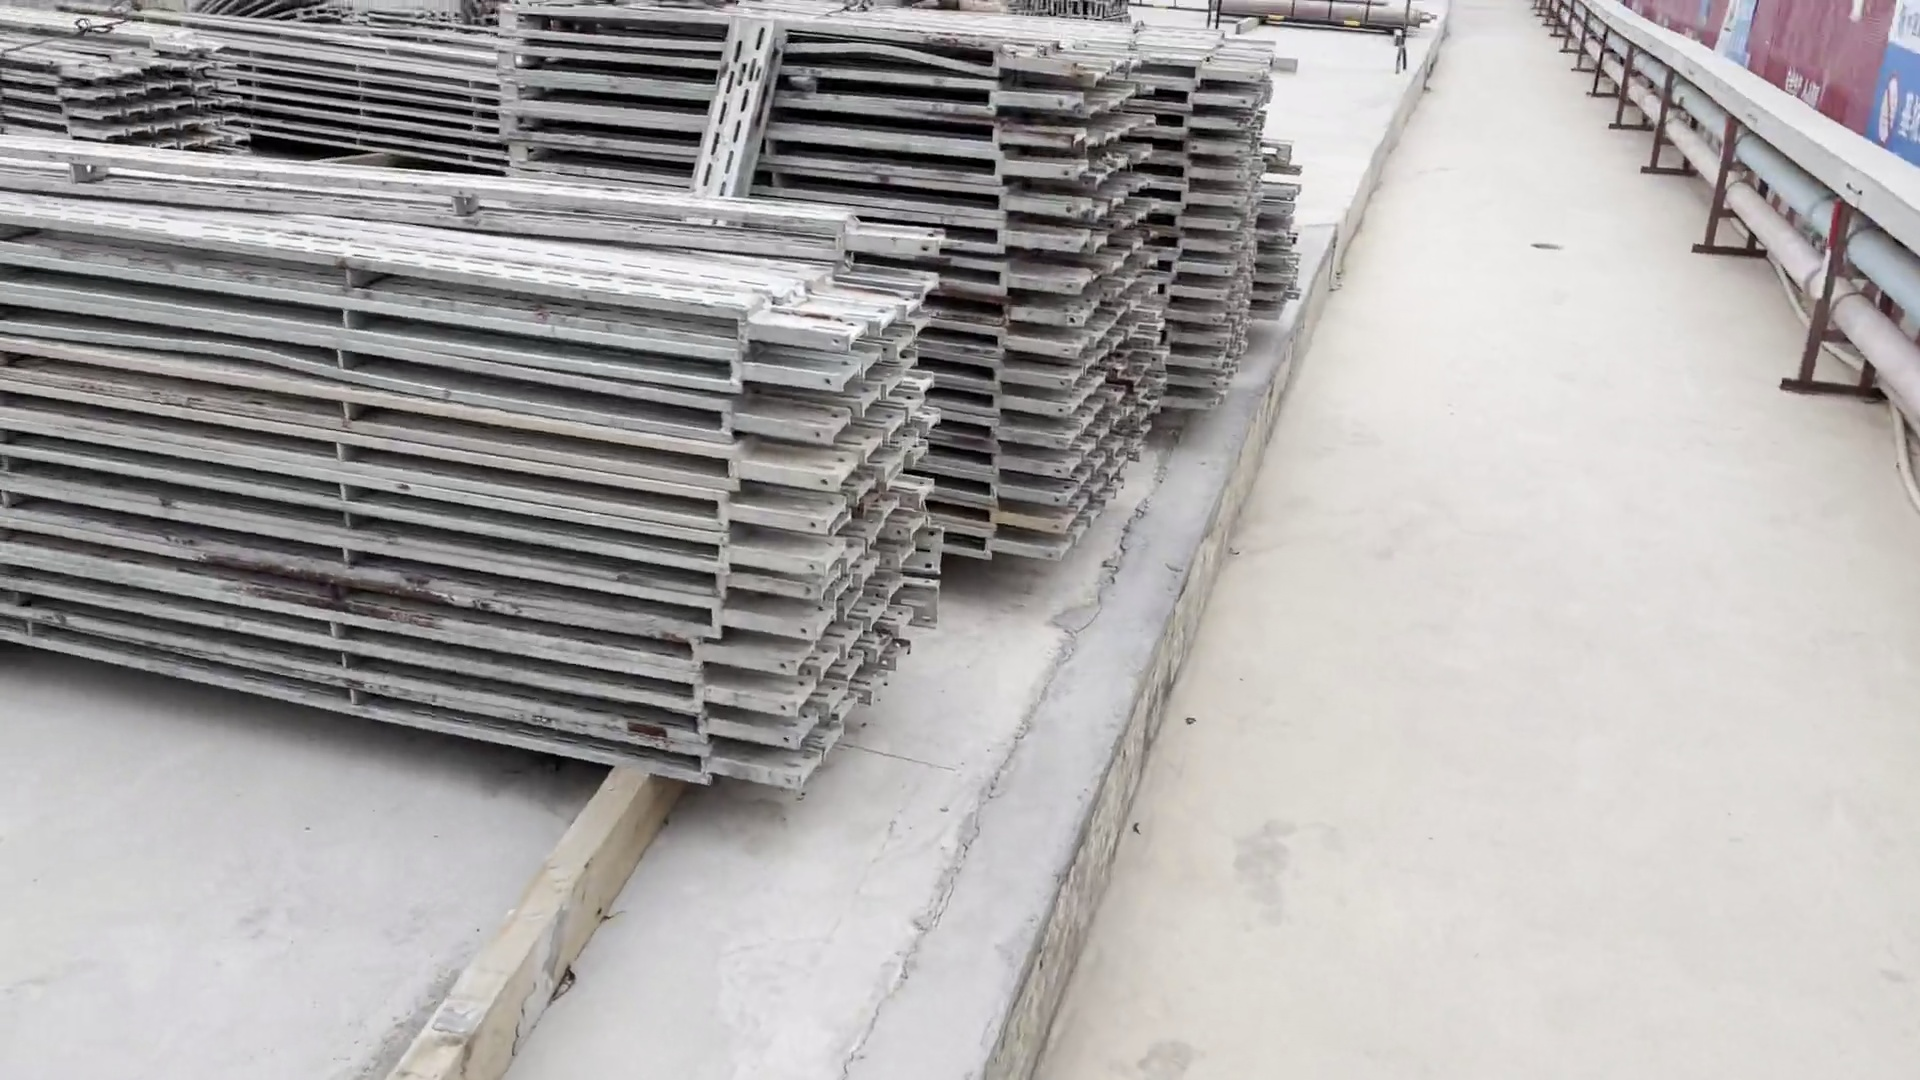fence: (1631, 1, 1920, 167)
slogan: (1855, 1, 1920, 170), (1698, 1, 1764, 76)
